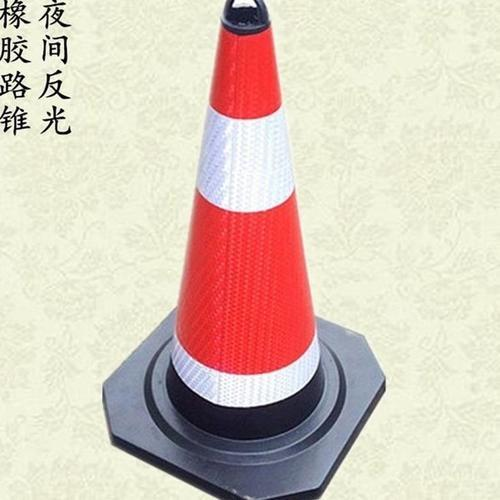cone_barrel: (147, 5, 342, 453)
